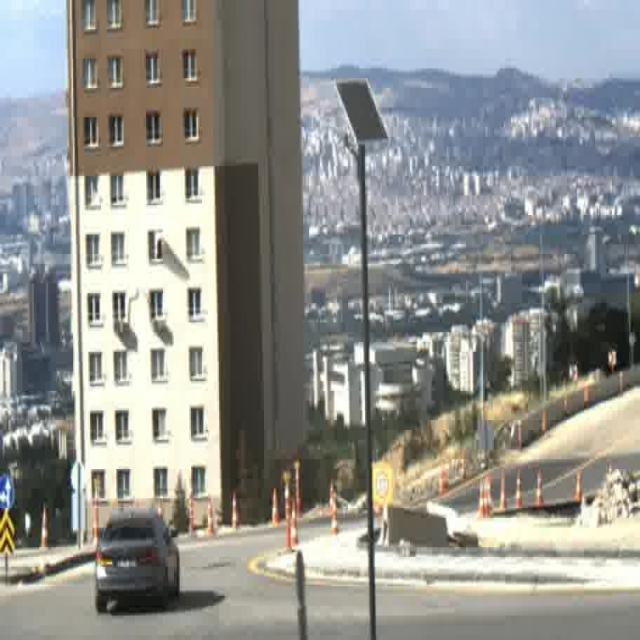Car: (96, 514, 180, 614)
